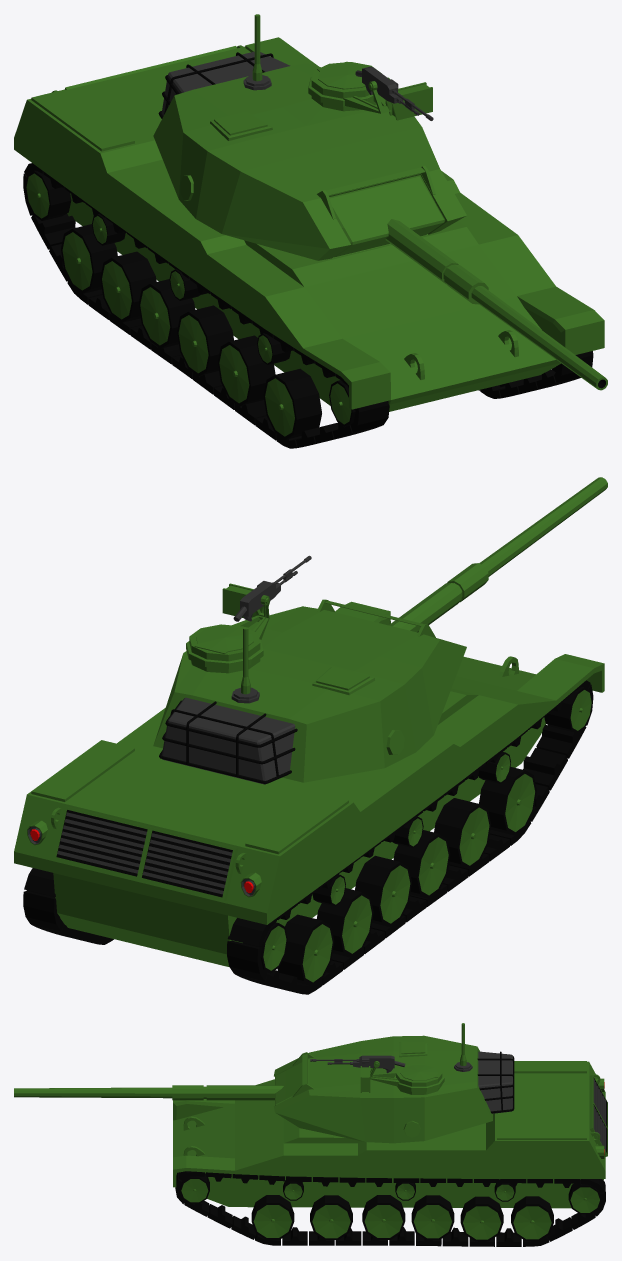
3 views of the same model, one above another, from view 1: azimuth 30°, elevation 25°; view 2: azimuth 150°, elevation 25°; view 3: azimuth 270°, elevation 25° (orthographic). The views are drawn at different scales.
Parts seen in each view (by area): view 1: Plane.006, Plane.007, Cylinder.002, Cube.006, Cube.007, Plane.008, Cube.008; view 2: Plane.006, Plane.007, Cylinder.002, Cube.006, Cube.007, Plane.008; view 3: Plane.006, Cylinder.002, Plane.007, Cube.006, Cube.007, Plane.008, Cube.008.
Boxes of the visible parts, x1=… form: Plane.006: x1=14, y1=37, x2=604, y2=411; Plane.007: x1=153, y1=14, x2=466, y2=260; Cylinder.002: x1=23, y1=163, x2=593, y2=448; Cube.006: x1=329, y1=175, x2=607, y2=390; Cube.007: x1=355, y1=66, x2=433, y2=120; Plane.008: x1=317, y1=61, x2=366, y2=89; Cube.008: x1=343, y1=77, x2=391, y2=113; Plane.006: x1=14, y1=601, x2=604, y2=967; Plane.007: x1=153, y1=599, x2=466, y2=784; Cylinder.002: x1=23, y1=680, x2=593, y2=994; Cube.006: x1=347, y1=477, x2=607, y2=632; Cube.007: x1=222, y1=555, x2=311, y2=621; Plane.008: x1=194, y1=626, x2=253, y2=654; Plane.006: x1=173, y1=1061, x2=607, y2=1208; Cylinder.002: x1=175, y1=1171, x2=605, y2=1246; Plane.007: x1=273, y1=1023, x2=514, y2=1143; Cube.006: x1=14, y1=1059, x2=308, y2=1105; Cube.007: x1=310, y1=1055, x2=405, y2=1092; Plane.008: x1=400, y1=1065, x2=438, y2=1080; Cube.008: x1=370, y1=1061, x2=399, y2=1086.
Bounding box in the file's own units: 302 × 334 × 956.
